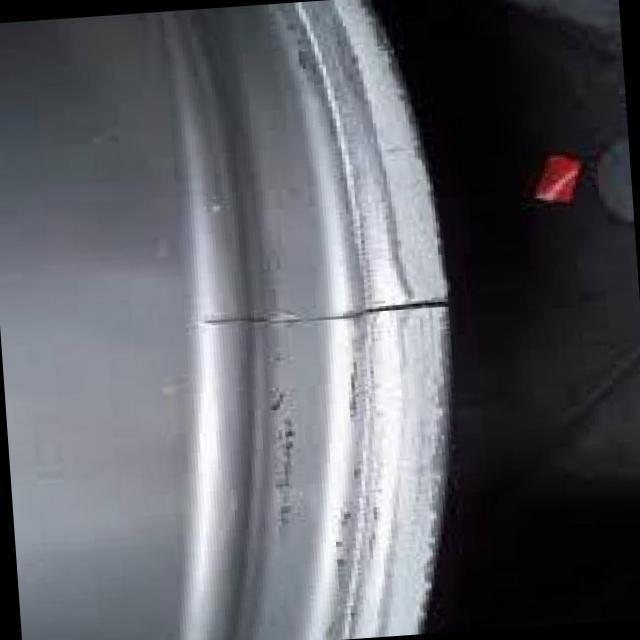defect: (196, 291, 454, 325)
